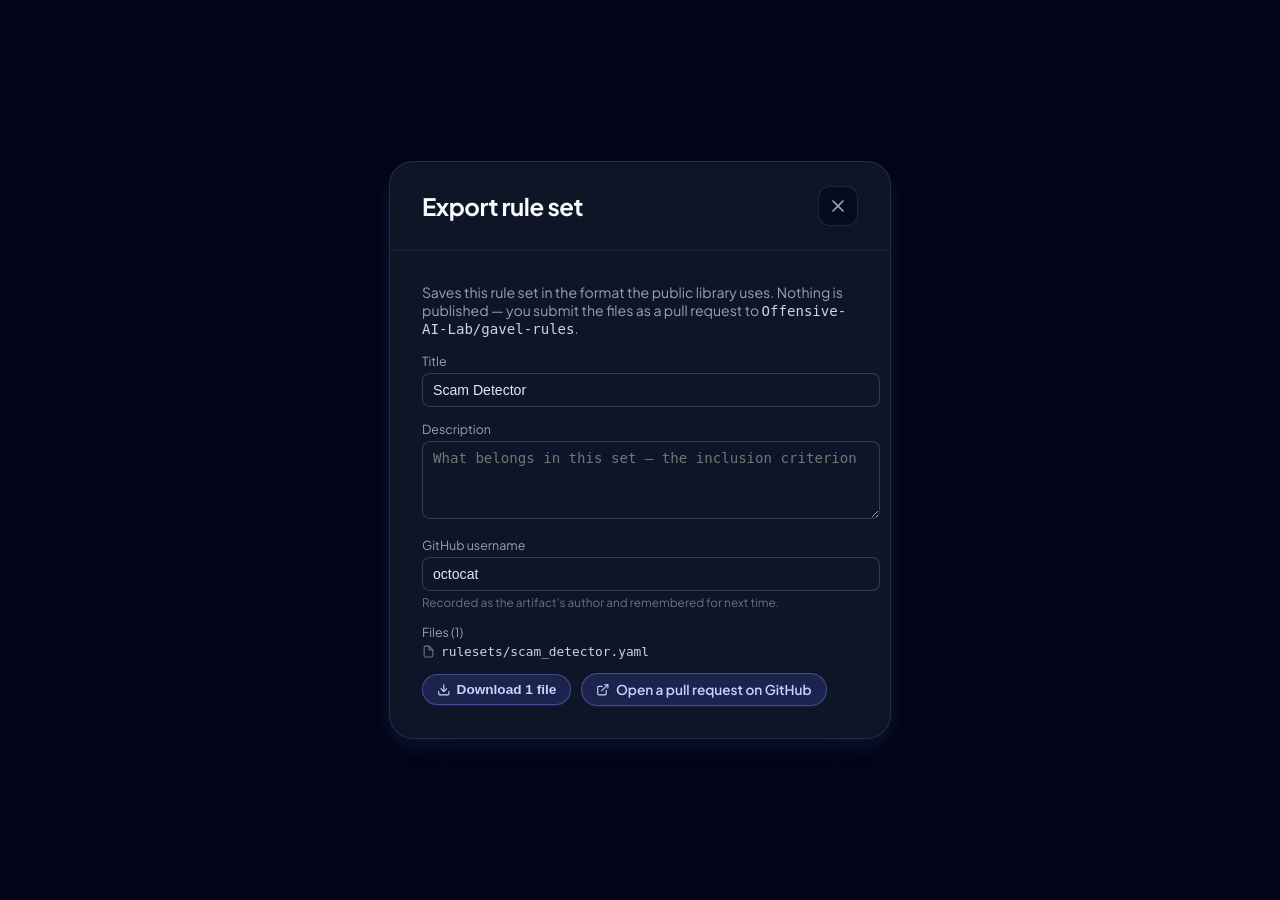
Test case: ExportToRegistryModal — downloading › confirms once the files are saved
The image size is (1280, 900).
Click the button "Download 1 file": click(497, 690) x1=422 y1=674 x2=571 y2=705
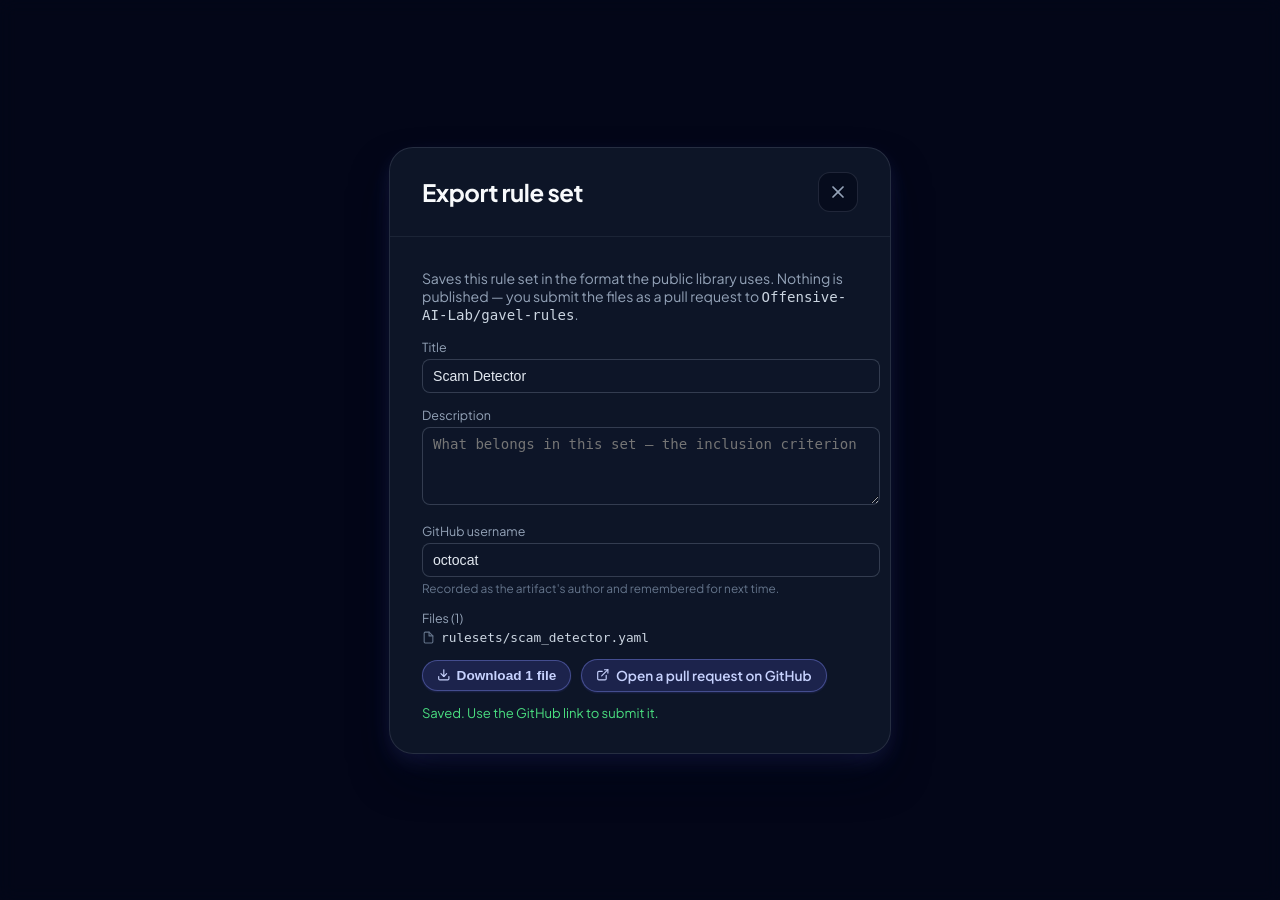
Check: the text "Saved. Use the GitHub link to submit it." is shown, box x1=422 y1=704 x2=659 y2=720
